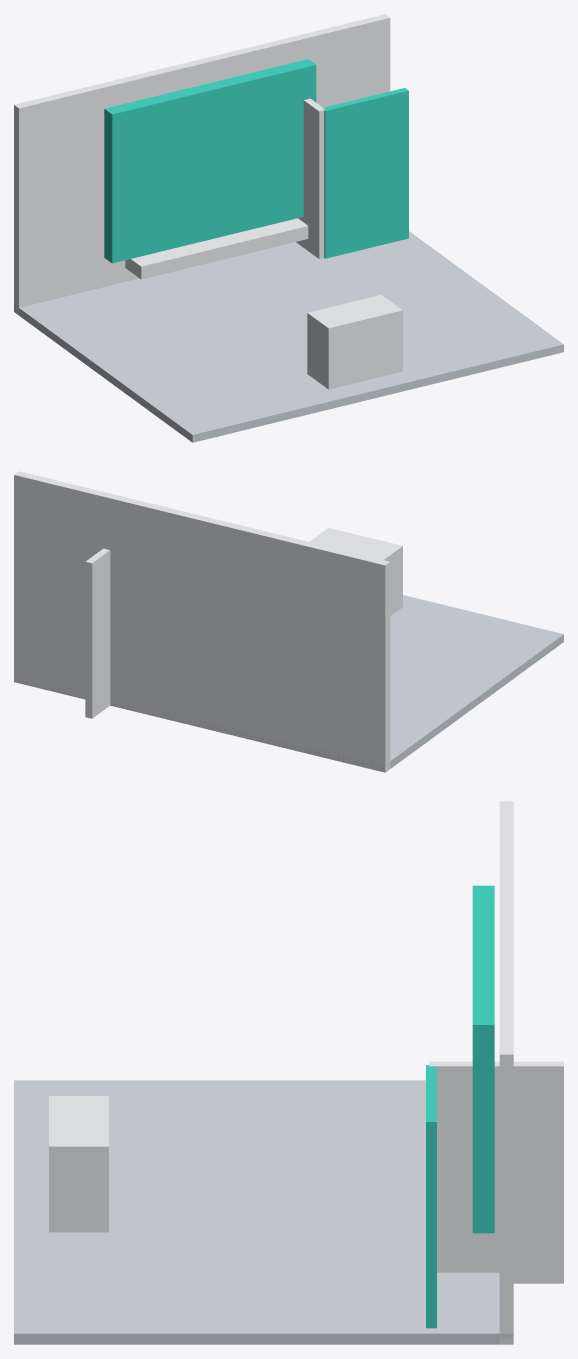
3 renders of one model, top to bottom at view 1: azimuth 30°, elevation 25°; view 2: azimuth 150°, elevation 25°; view 3: azimuth 270°, elevation 25°, orthographic. The views are drawn at different scales.
Visible parts, largest first — view 1: Exhibition Booth Concept; view 2: Exhibition Booth Concept; view 3: Exhibition Booth Concept.
Part boxes in pixels (bbox=[...]): Exhibition Booth Concept: bbox=[14, 14, 563, 442]; Exhibition Booth Concept: bbox=[14, 471, 563, 772]; Exhibition Booth Concept: bbox=[14, 801, 563, 1344].
Bounding box in the file's own units: 6 × 3.2 × 5.51.
